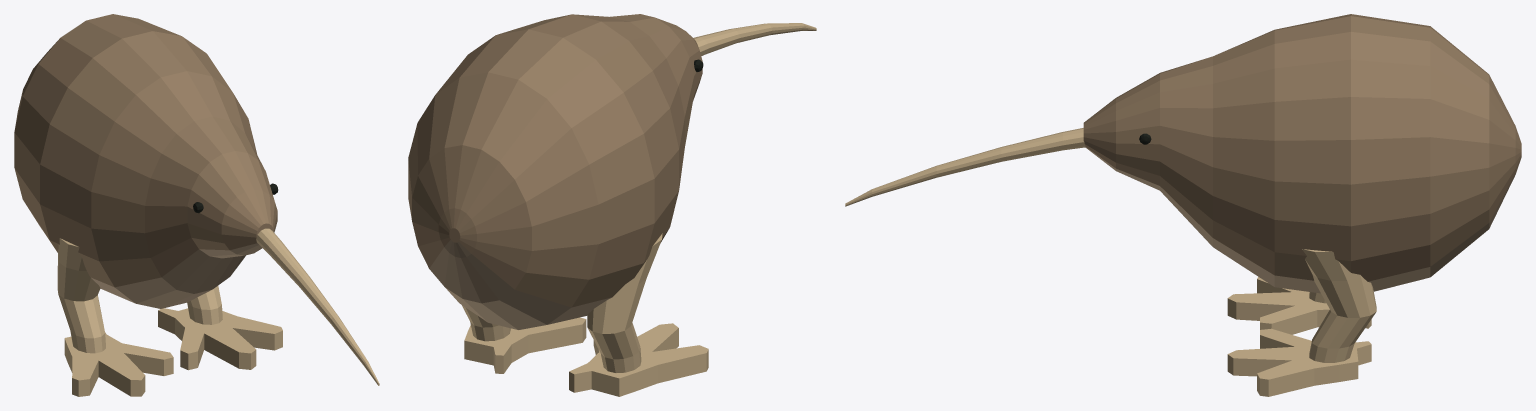
3 renders of one model, left to right at view 1: azimuth 30°, elevation 25°; view 2: azimuth 150°, elevation 25°; view 3: azimuth 270°, elevation 25°, orthographic. The views are drawn at different scales.
Parts seen in each view (by area): view 1: WholeLowOvoidTorsoShortNeckAndSmallKiwiHead, WholeBroadCleftForwardToeKiwiFoot1, WholeBroadCleftForwardToeKiwiFoot0, WholeShortStoutBentKiwiLeg0, WholeLongSlenderDowncurvedKiwiBill, WholeShortStoutBentKiwiLeg1; view 2: WholeLowOvoidTorsoShortNeckAndSmallKiwiHead, WholeBroadCleftForwardToeKiwiFoot0, WholeShortStoutBentKiwiLeg0, WholeBroadCleftForwardToeKiwiFoot1, WholeLongSlenderDowncurvedKiwiBill, WholeShortStoutBentKiwiLeg1; view 3: WholeLowOvoidTorsoShortNeckAndSmallKiwiHead, WholeBroadCleftForwardToeKiwiFoot1, WholeShortStoutBentKiwiLeg1, WholeBroadCleftForwardToeKiwiFoot0, WholeLongSlenderDowncurvedKiwiBill.
Part boxes in pixels (x1=…): WholeLowOvoidTorsoShortNeckAndSmallKiwiHead: x1=14, y1=14, x2=277, y2=308; WholeBroadCleftForwardToeKiwiFoot1: x1=158, y1=308, x2=282, y2=370; WholeBroadCleftForwardToeKiwiFoot0: x1=64, y1=332, x2=173, y2=396; WholeShortStoutBentKiwiLeg0: x1=57, y1=238, x2=105, y2=353; WholeLongSlenderDowncurvedKiwiBill: x1=256, y1=228, x2=379, y2=385; WholeShortStoutBentKiwiLeg1: x1=187, y1=286, x2=222, y2=324; WholeLowOvoidTorsoShortNeckAndSmallKiwiHead: x1=408, y1=14, x2=702, y2=329; WholeBroadCleftForwardToeKiwiFoot0: x1=569, y1=323, x2=708, y2=396; WholeShortStoutBentKiwiLeg0: x1=587, y1=233, x2=662, y2=372; WholeBroadCleftForwardToeKiwiFoot1: x1=464, y1=317, x2=586, y2=373; WholeLongSlenderDowncurvedKiwiBill: x1=693, y1=23, x2=816, y2=55; WholeShortStoutBentKiwiLeg1: x1=462, y1=305, x2=510, y2=341; WholeLowOvoidTorsoShortNeckAndSmallKiwiHead: x1=1083, y1=14, x2=1521, y2=293; WholeBroadCleftForwardToeKiwiFoot1: x1=1227, y1=328, x2=1371, y2=396; WholeShortStoutBentKiwiLeg1: x1=1302, y1=249, x2=1376, y2=362; WholeBroadCleftForwardToeKiwiFoot0: x1=1227, y1=277, x2=1371, y2=334; WholeLongSlenderDowncurvedKiwiBill: x1=845, y1=128, x2=1085, y2=206.
Bounding box in the file's own units: 0.86 × 1.2 × 2.3.
